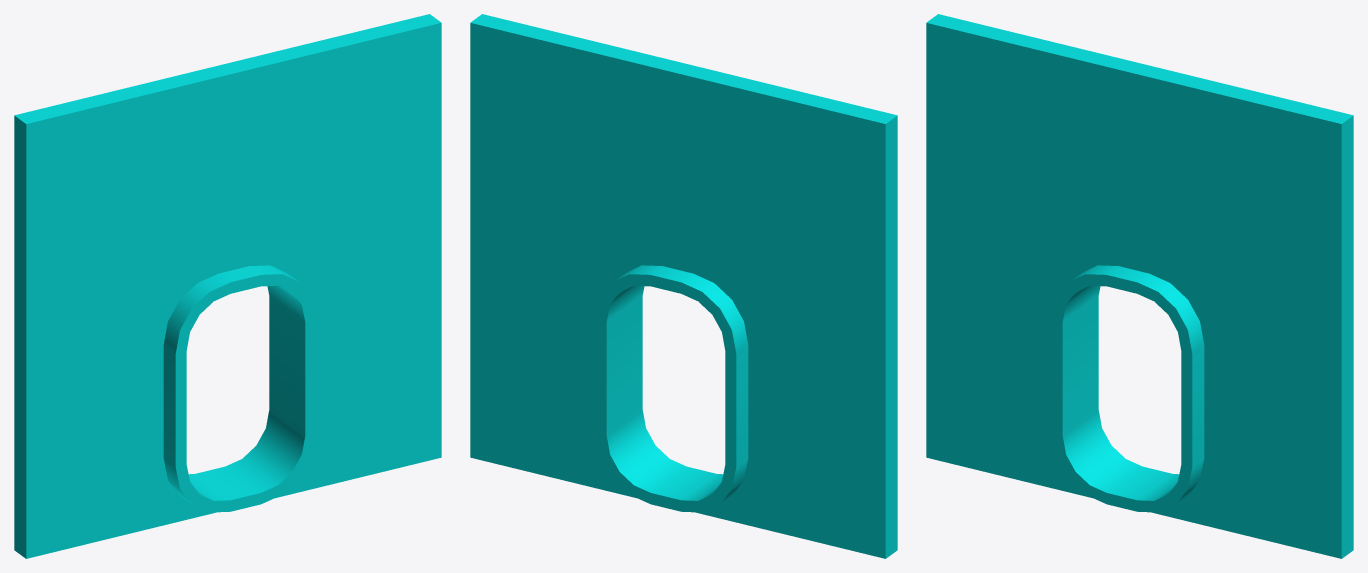
File: door_corridor.fbx
3 views of the same model, side by side, from view 1: azimuth 30°, elevation 25°; view 2: azimuth 150°, elevation 25°; view 3: azimuth 330°, elevation 25° (orthographic).
Visible parts, largest first — view 1: Door_corridor_entry; view 2: Door_corridor_entry; view 3: Door_corridor_entry.
Boxes of the visible parts, x1=… form: Door_corridor_entry: x1=14, y1=14, x2=441, y2=558; Door_corridor_entry: x1=470, y1=14, x2=897, y2=558; Door_corridor_entry: x1=926, y1=14, x2=1353, y2=558.
Size of the model in its own units: 400 by 400 by 60.
